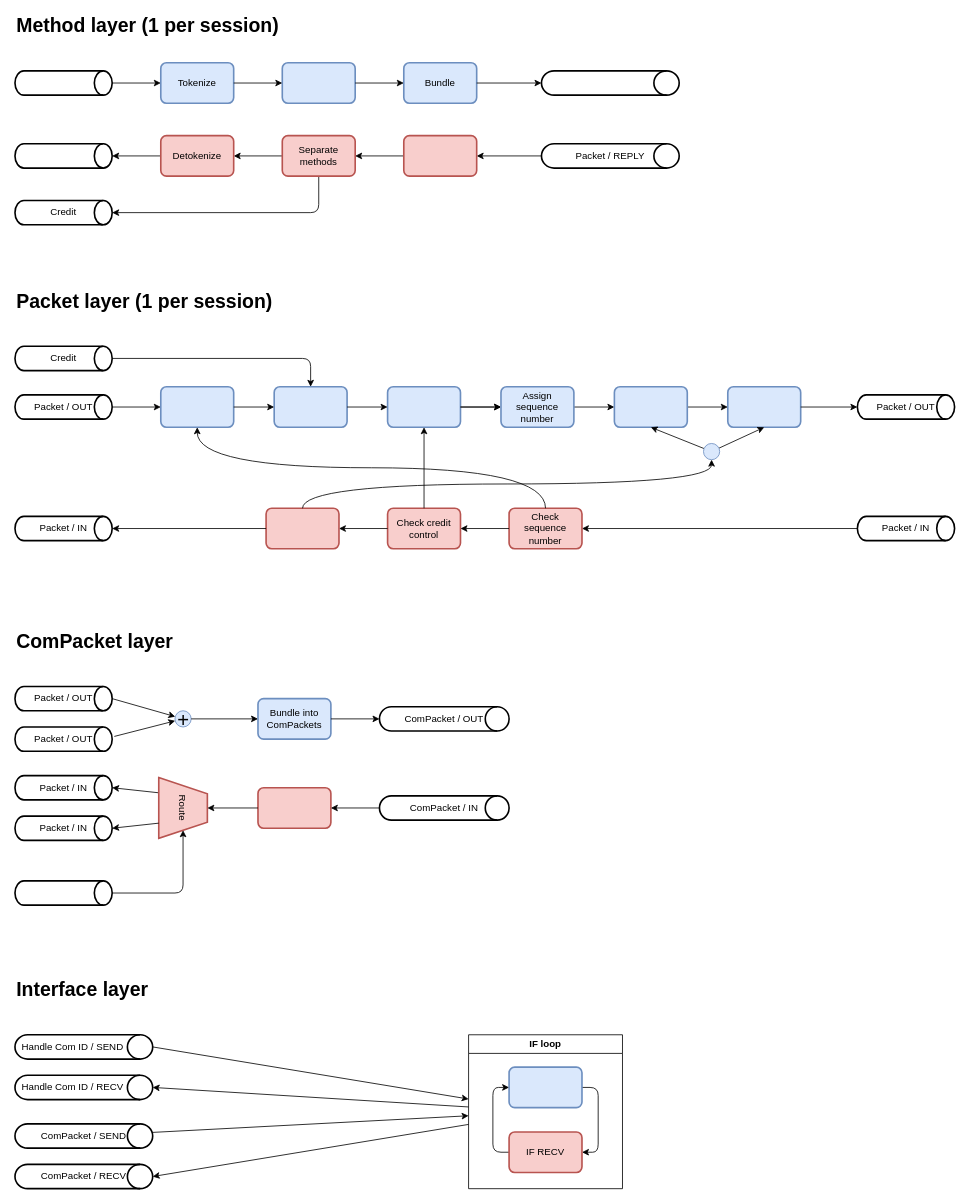
Some shapes in this 969 by 1203 pixel diagram are drawn without their labels. The centre of each missing label's shape, as x and y in pixels:
"Add ACK/NAK" goes at (x=197, y=407).
"Add credit control" goes at (x=310, y=407).
"Cache" goes at (x=764, y=407).
"Check ACK/NAK" goes at (x=302, y=528).
"Deserialize tokens" goes at (x=440, y=155).
"Hold" goes at (x=423, y=407).
"IF SEND" goes at (x=545, y=1087).
"Method" goes at (x=63, y=83).
"Packet / REQUEST" goes at (x=610, y=83).
"Response" goes at (x=63, y=155).
"Serialize tokens" goes at (x=318, y=83).
"Session Ctrl" goes at (x=63, y=893).
"Split" goes at (x=294, y=808).
"Timeout" goes at (x=650, y=407).
